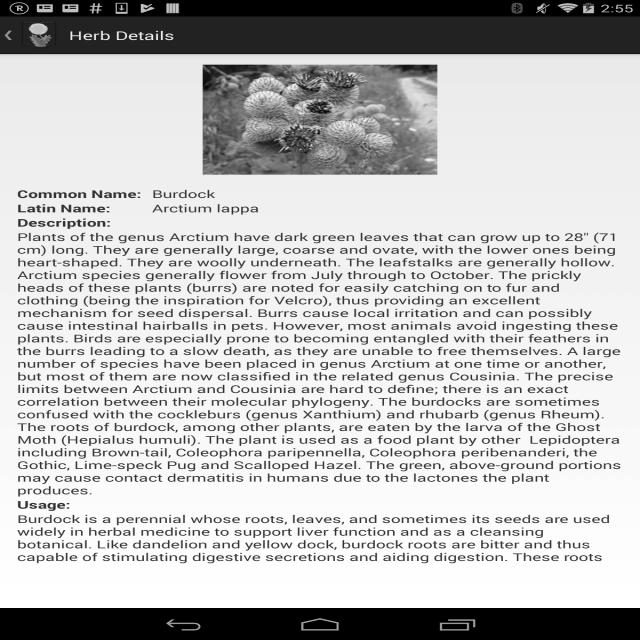ImageView: (203, 64, 438, 174), (26, 21, 55, 49)
TextView: (14, 230, 629, 482), (15, 514, 613, 564), (13, 185, 265, 216), (68, 27, 177, 44), (16, 497, 76, 512)
